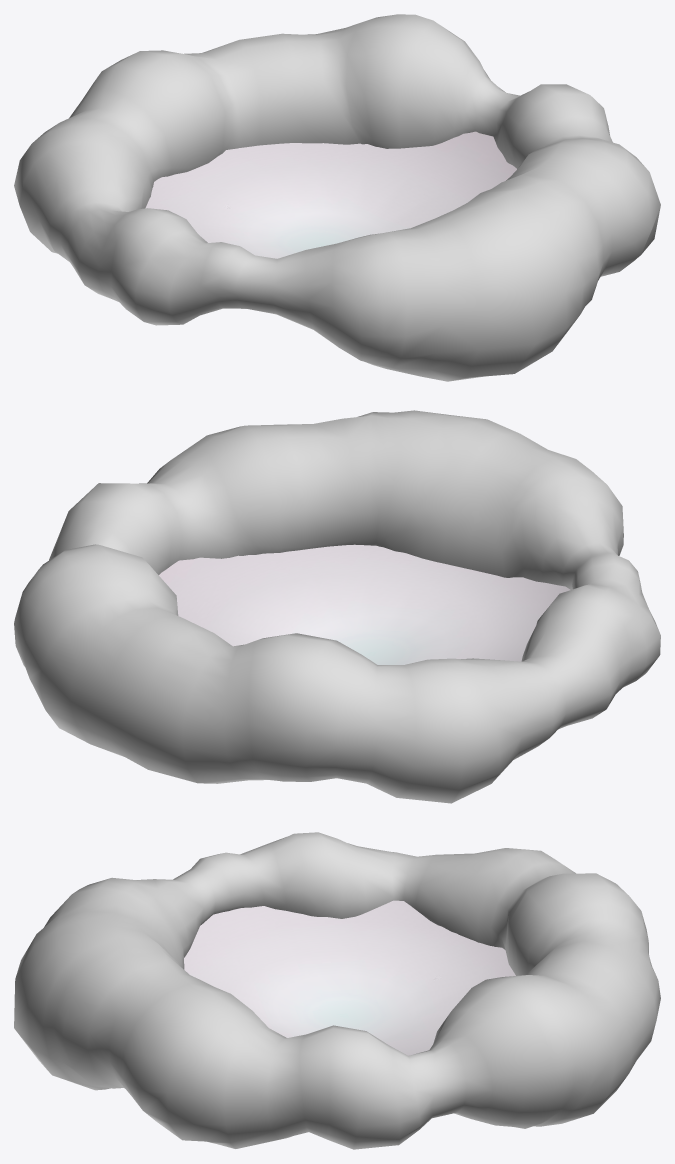
Rendered from Elevating_Clouds.fbx.
The picture shows the model from 3 angles, top to bottom: view 1: azimuth 30°, elevation 25°; view 2: azimuth 150°, elevation 25°; view 3: azimuth 270°, elevation 25°; orthographic projection. The views are drawn at different scales.
Visible parts, largest first — view 1: Elevating_Clouds, Elevating_Clouds_Plate; view 2: Elevating_Clouds, Elevating_Clouds_Plate; view 3: Elevating_Clouds, Elevating_Clouds_Plate.
Part boxes in pixels (x1,y1,x2,y2): Elevating_Clouds: [14, 14, 660, 381]; Elevating_Clouds_Plate: [145, 131, 516, 258]; Elevating_Clouds: [14, 410, 660, 803]; Elevating_Clouds_Plate: [159, 544, 570, 664]; Elevating_Clouds: [14, 832, 660, 1149]; Elevating_Clouds_Plate: [184, 900, 515, 1055].
Bounding box in the file's own units: 928 × 283 × 1016.
